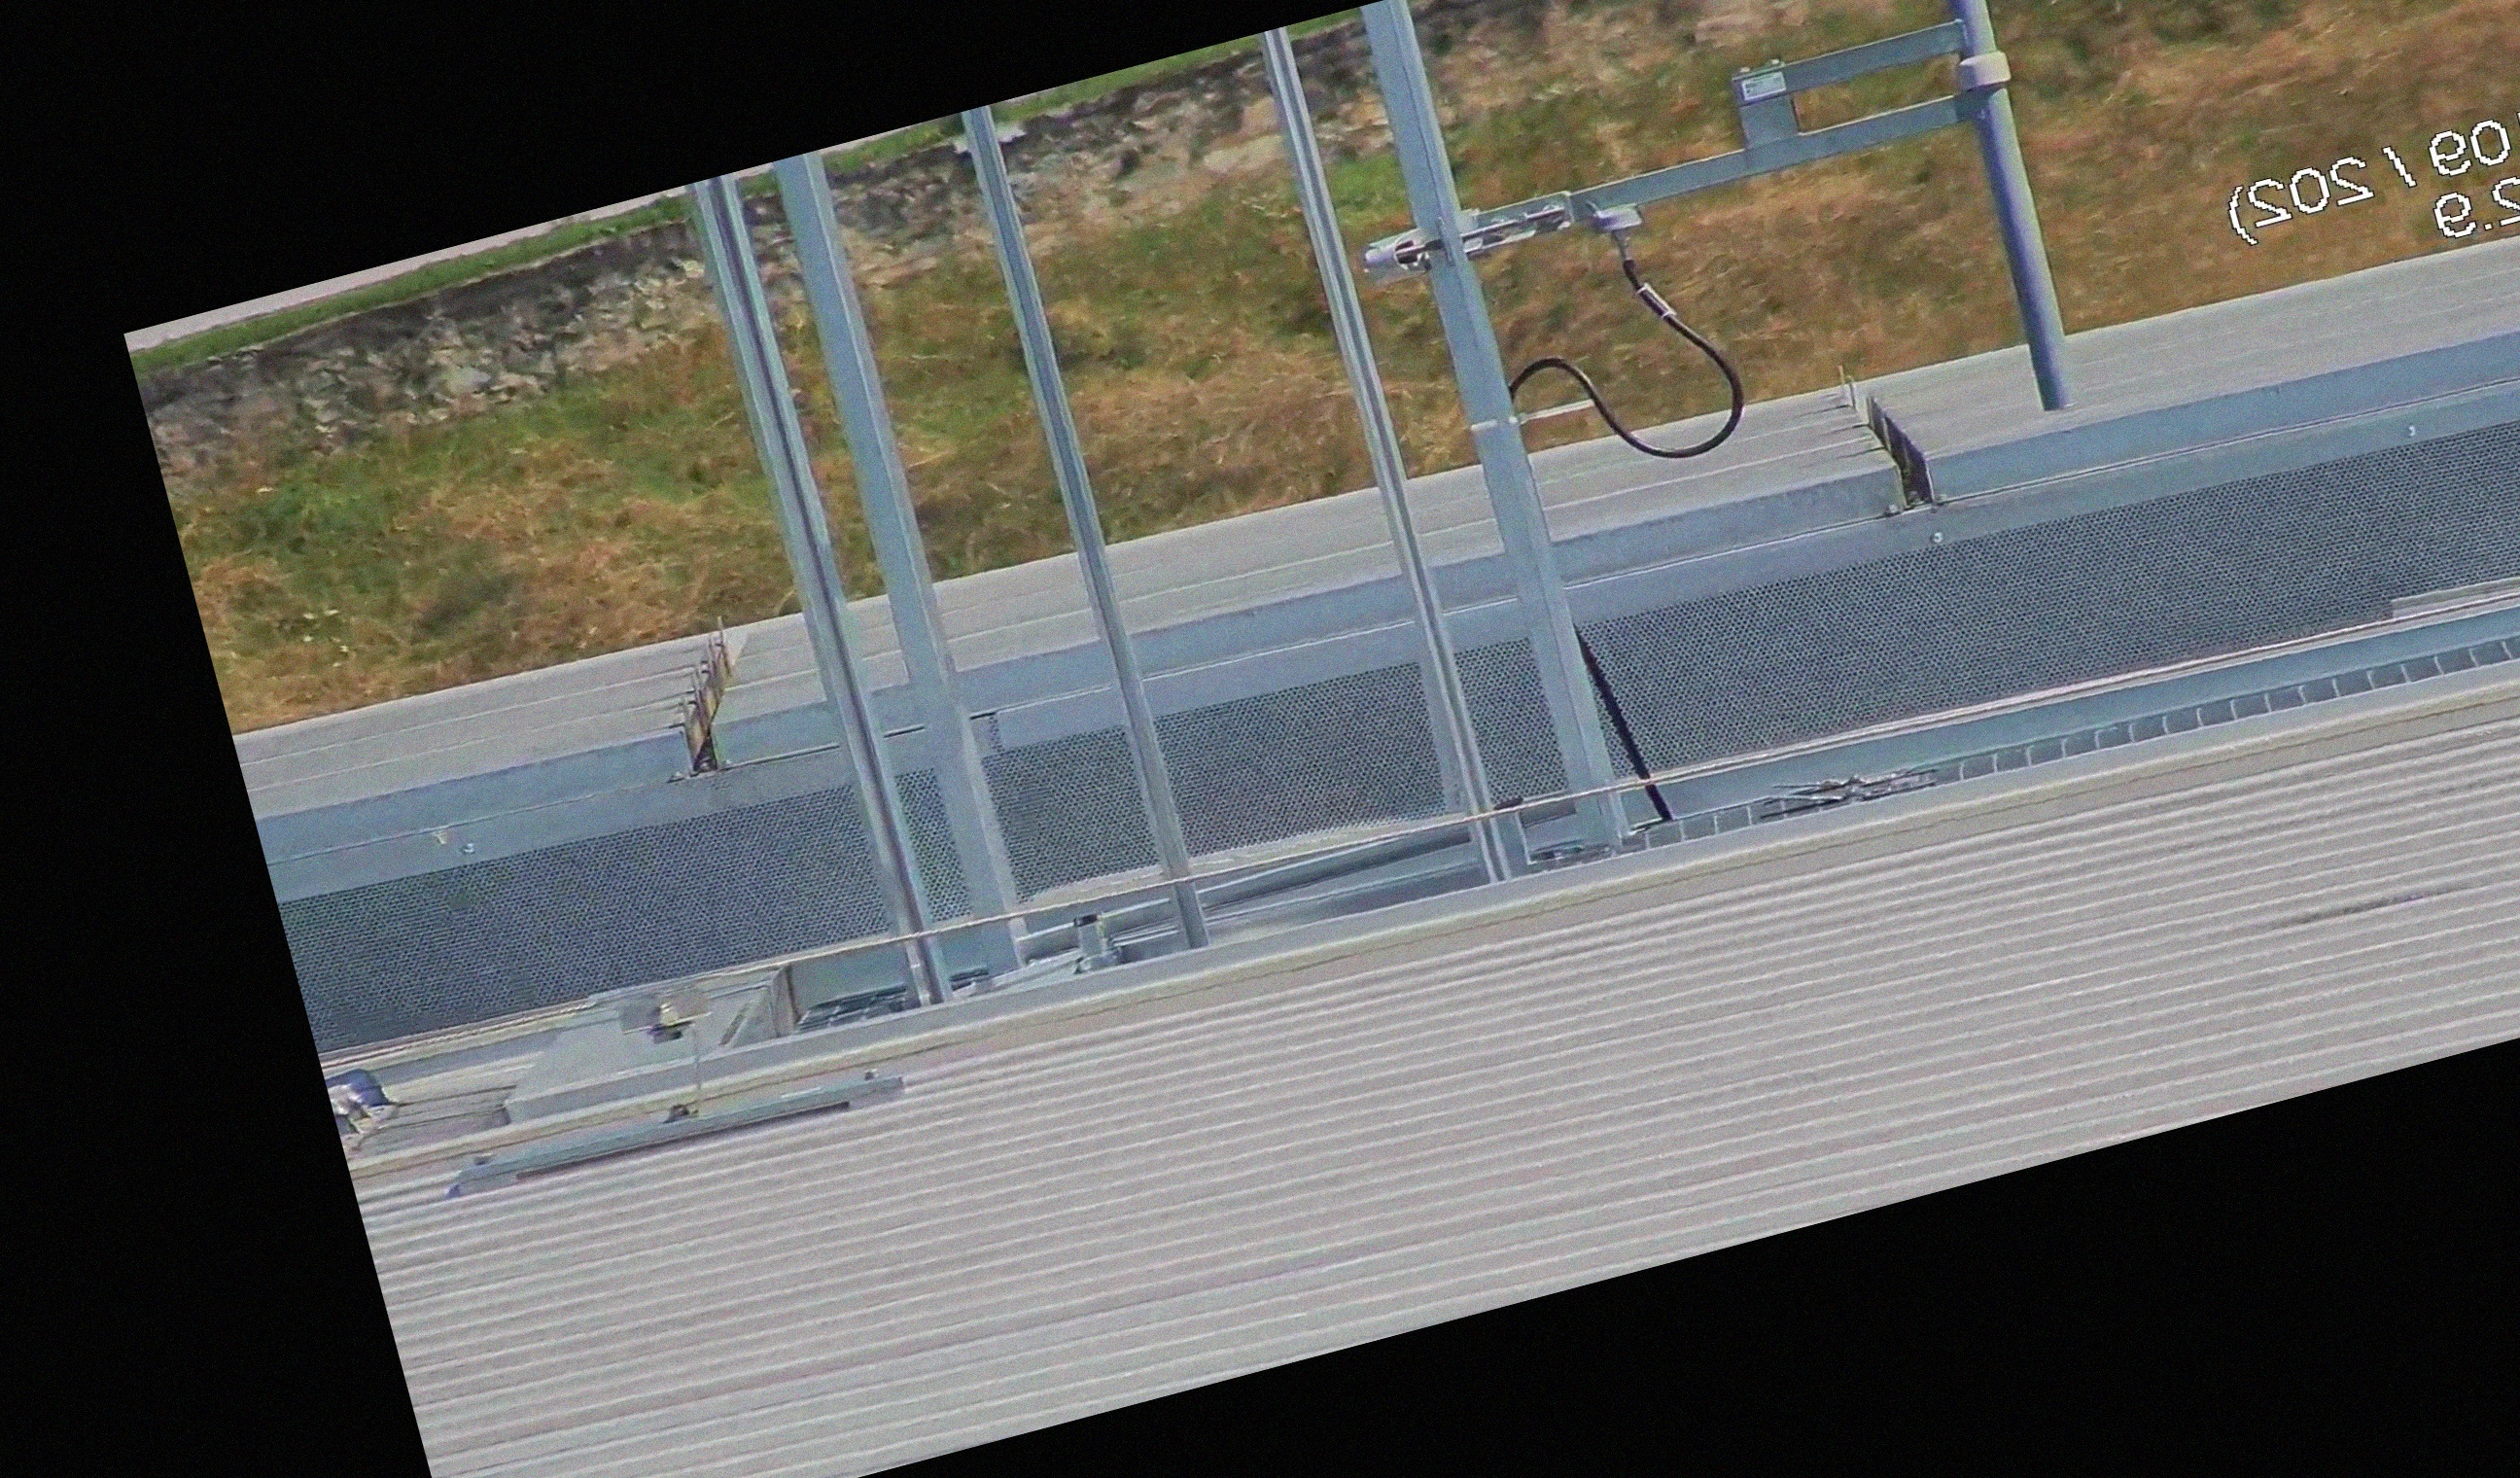Other: (1832, 357, 1963, 530)
